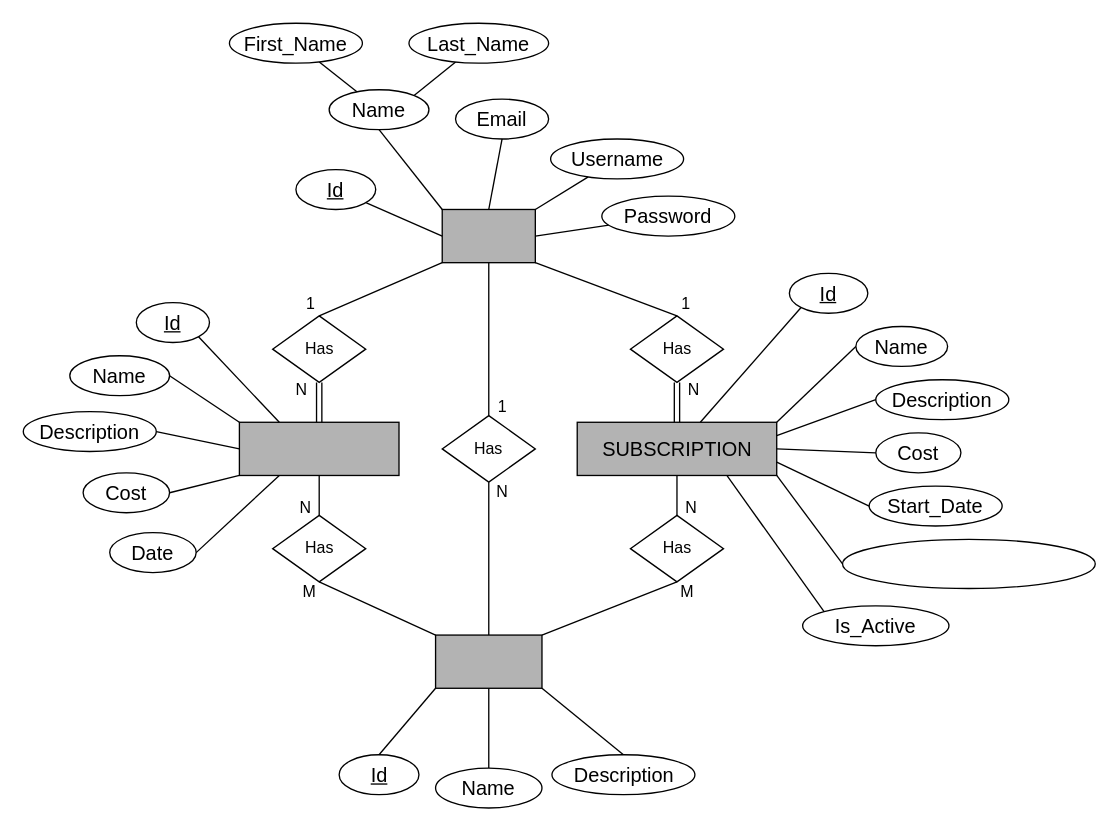
Image size: 1119x831. Some labels were removed from this diagram. The box of each missing label's shape, as (x1, y1, x2, y2) in pixels:
Days_Btwn_Purchases: (841, 538, 1095, 589)
LABEL: (434, 634, 542, 688)
PURCHASE: (238, 421, 399, 475)
USER: (441, 208, 535, 263)
